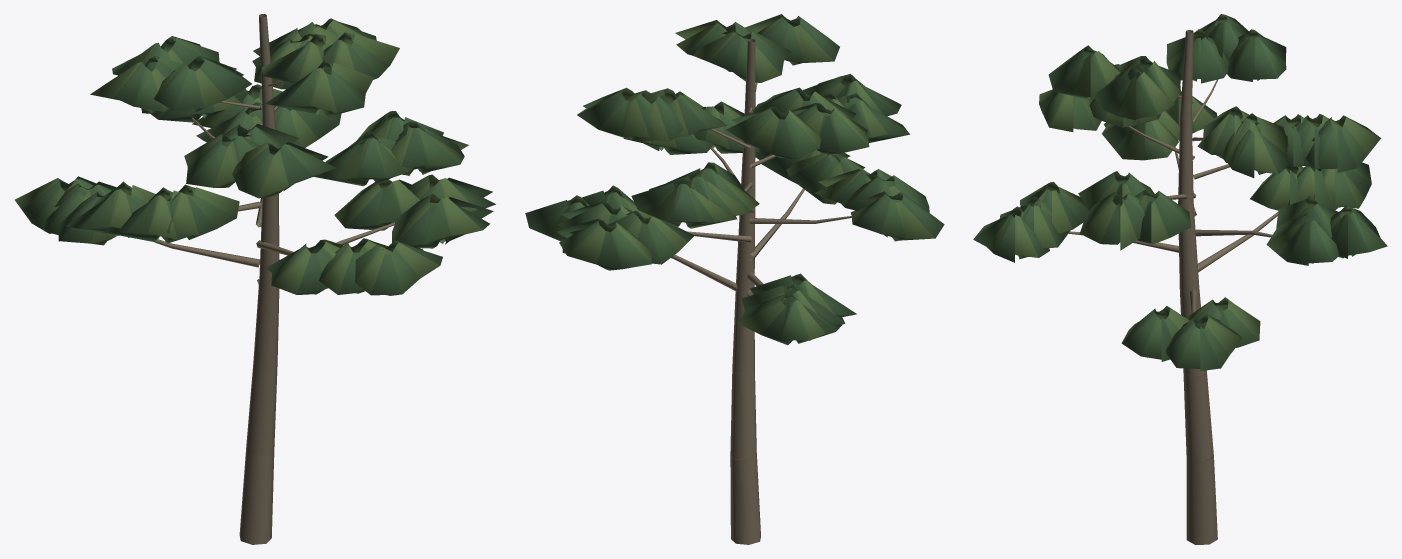
The model's file is PinFond_0.fbx.
3 renders of one model, left to right at view 1: azimuth 30°, elevation 25°; view 2: azimuth 150°, elevation 25°; view 3: azimuth 270°, elevation 25°, orthographic. The views are drawn at different scales.
Visible parts, largest first — view 1: PinFond_0; view 2: PinFond_0; view 3: PinFond_0.
Part boxes in pixels (left/top/right/bottom): PinFond_0: left=15, top=14, right=495, bottom=544; PinFond_0: left=525, top=14, right=944, bottom=544; PinFond_0: left=973, top=14, right=1387, bottom=544.
Size of the model in its own units: 688 by 801 by 593.
